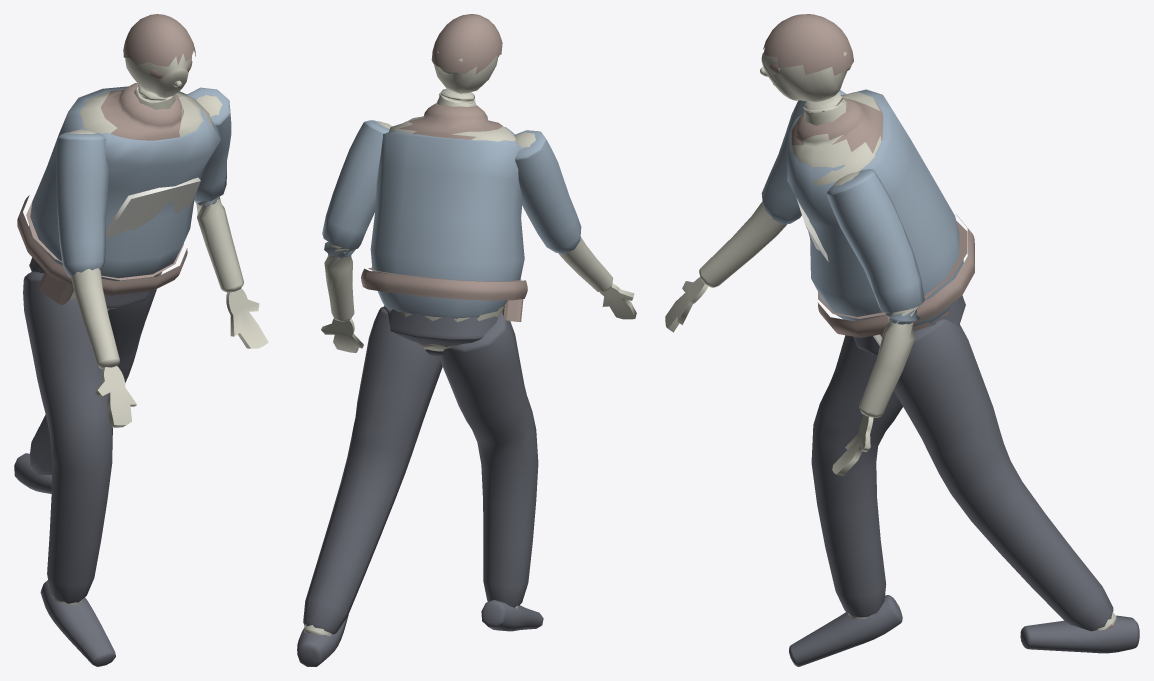
Rendered from undead-horde-and-infected-variants-walker-shop-keeper-ee206d55__11982.glb.
3 views of the same model, side by side, from view 1: azimuth 30°, elevation 25°; view 2: azimuth 150°, elevation 25°; view 3: azimuth 270°, elevation 25° (orthographic). The views are drawn at different scales.
Parts seen in each view (by area): view 1: walker-shop-keeper; view 2: walker-shop-keeper; view 3: walker-shop-keeper.
Boxes of the visible parts, x1,y1,x2,y2 form: walker-shop-keeper: (14,14,268,666); walker-shop-keeper: (297,14,636,666); walker-shop-keeper: (665,14,1139,666).
Bounding box in the file's own units: 0.6794 × 1.66 × 1.05.
